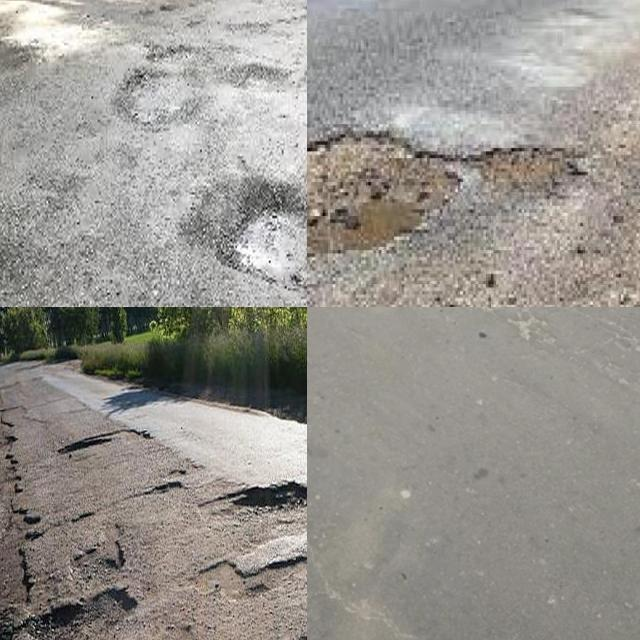Lubang: (307, 128, 470, 255), (216, 193, 307, 290), (483, 148, 592, 203), (22, 591, 139, 640), (231, 487, 307, 533)
Pinggir: (0, 411, 42, 640)
